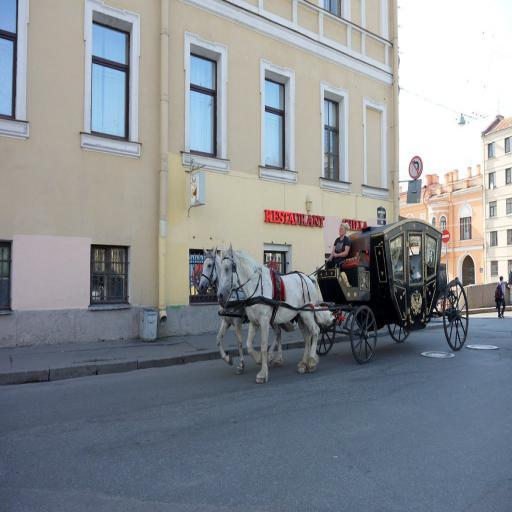horse: (217, 238, 335, 386), (197, 247, 283, 368)
